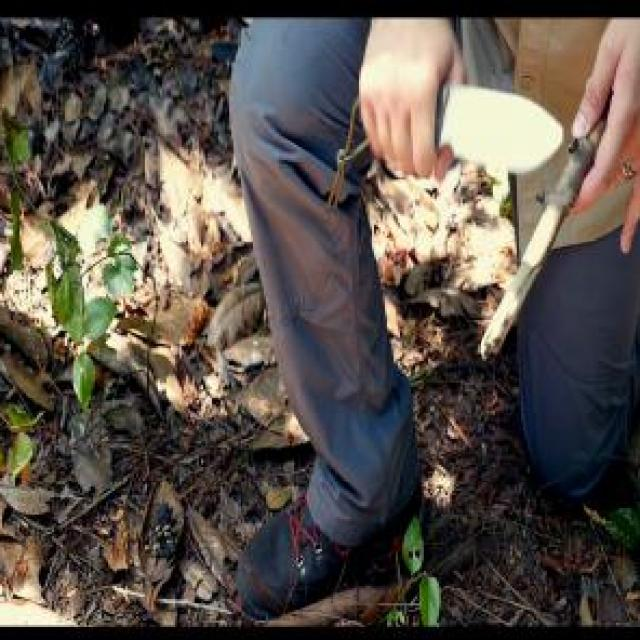knife: (357, 36, 568, 180)
